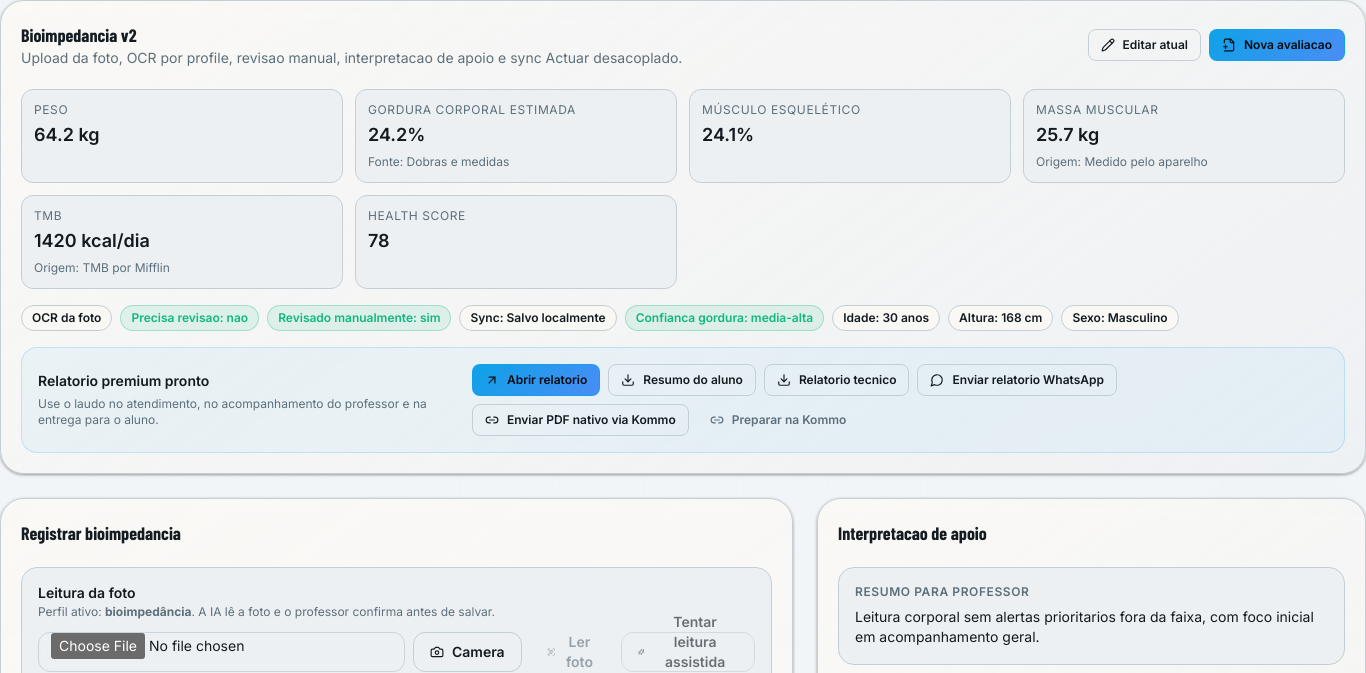
Test: MemberBodyCompositionTab › shows the selected protocol requirements as immediate inputs
The image size is (1366, 673).
Step 1. Click the button "Editar atual" → (1144, 45), box [1088,29,1201,61]
(page scrolled)
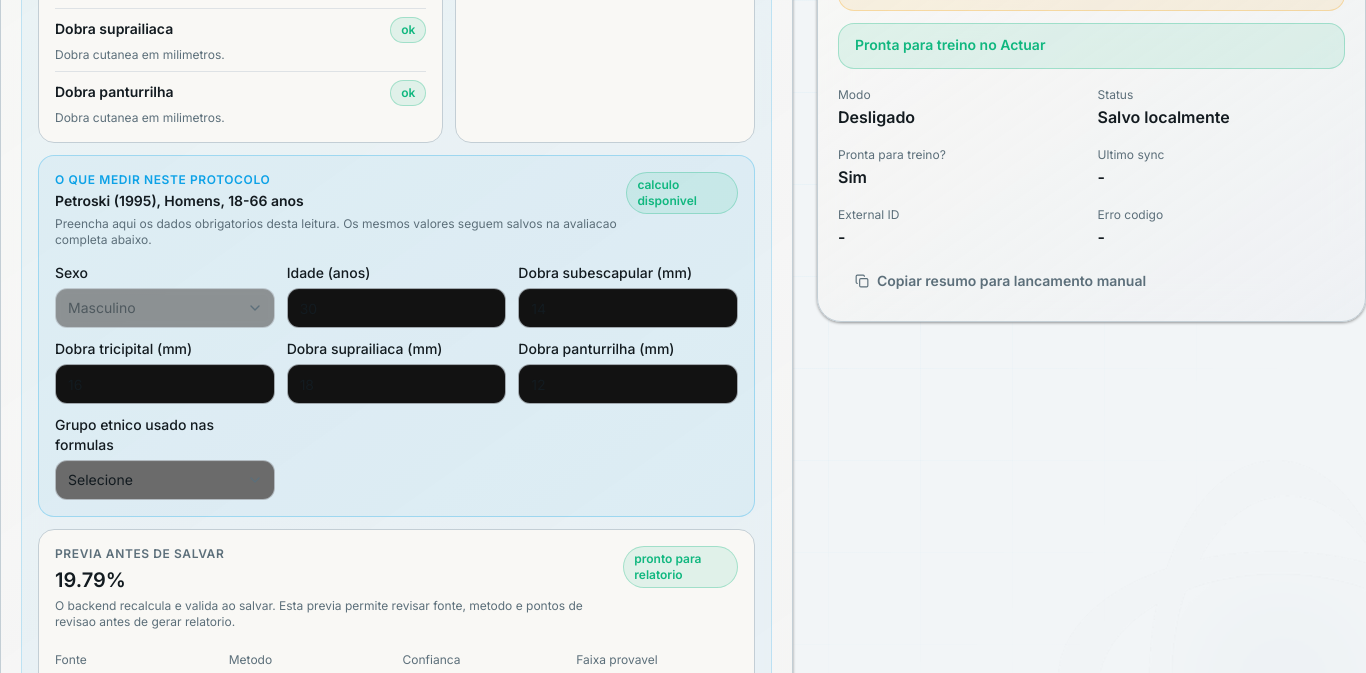
Check: the text "O que medir neste protocolo" is shown, box [55,172,270,187]
Check: the field named "Dobra subescapular (mm) para protocolo" holds "14", box [518,288,738,328]
Check: the field named "Dobra tricipital (mm) para protocolo" holds "16", box [55,364,275,404]
